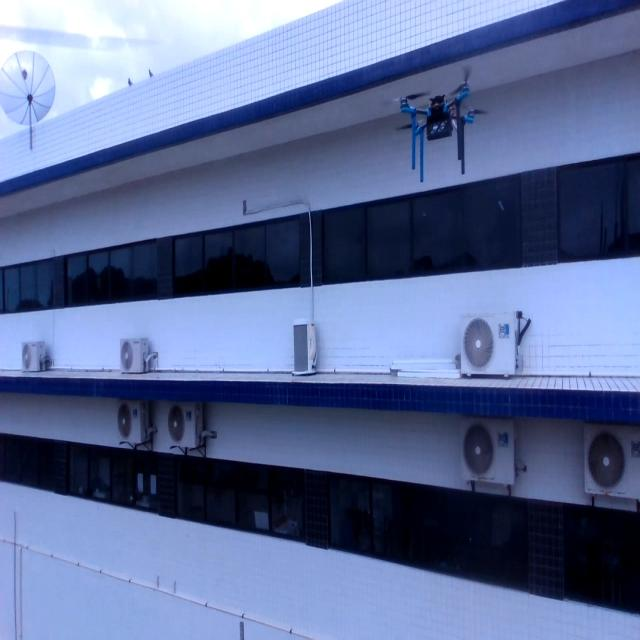-uav-: (391, 58, 496, 181)
